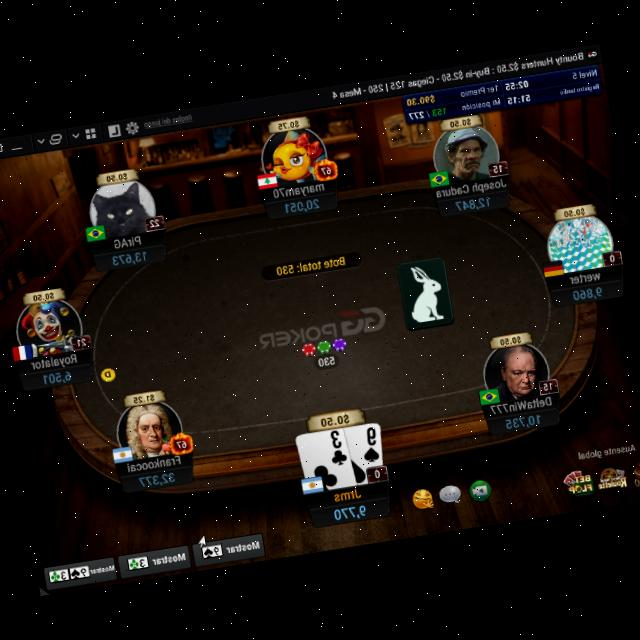3c: (325, 428, 349, 468)
9s: (357, 423, 383, 466)
bet_text: (316, 353, 338, 368)
dealer: (98, 363, 120, 384)
pot_text: (274, 254, 348, 278)
stack_text: (332, 500, 369, 522), (502, 410, 542, 430), (138, 468, 178, 488), (110, 248, 148, 268), (283, 196, 321, 215), (454, 193, 491, 212), (40, 366, 73, 386), (571, 282, 605, 301)
